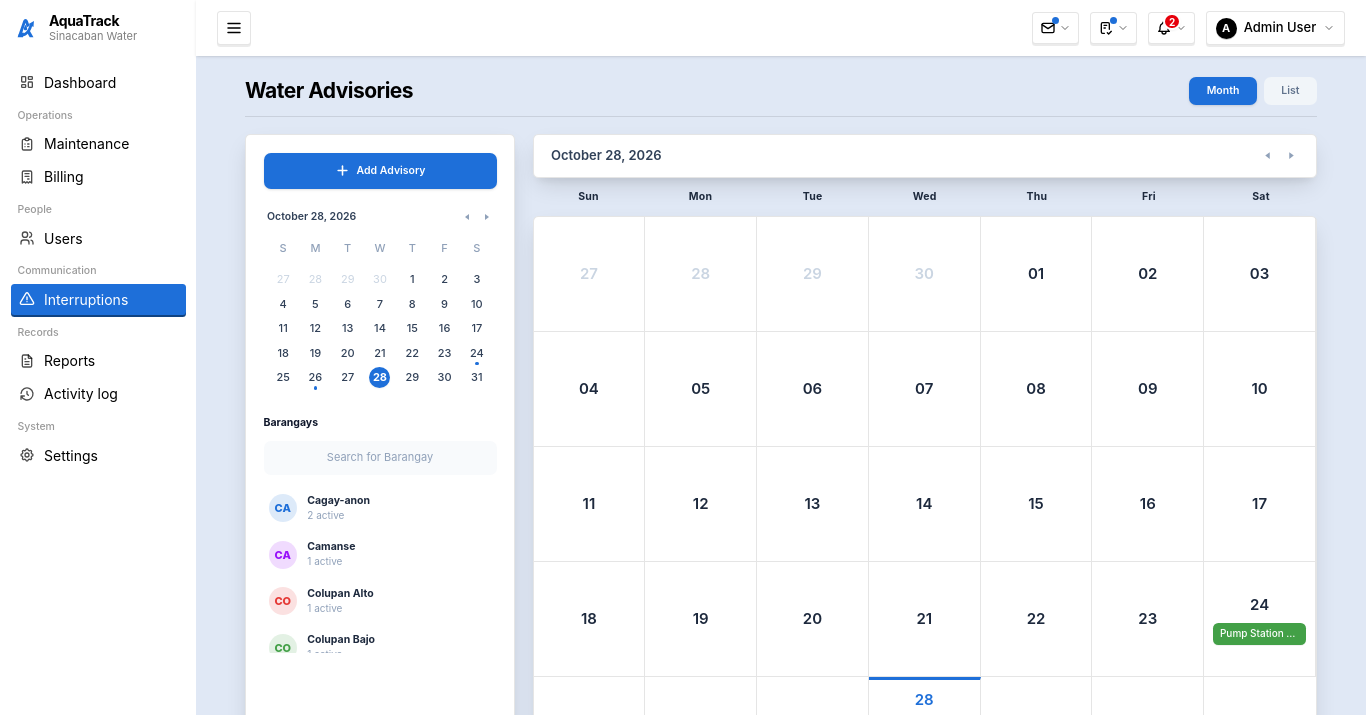
Scenario: AquaTrack Water Advisories Workflow (Slice: Advisories) › rejects a past start time when submitting advisory
Click the button "Add Advisory".
click(380, 170)  # box [264,152,496,188]
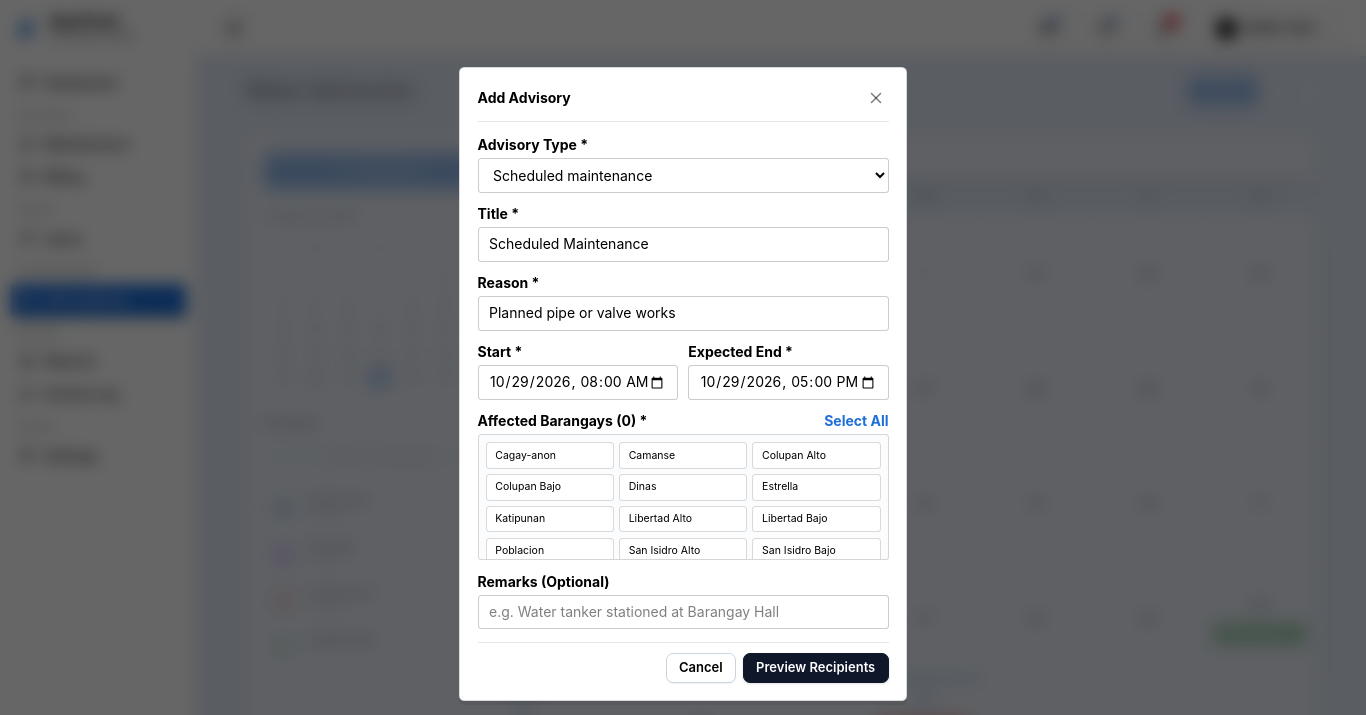
Note: Set starts_at to a past date
Replace the text in the field showing "T" below "Start *" with "2020-01-01T08:00" at coordinates (578, 383), box [478,365,678,400]
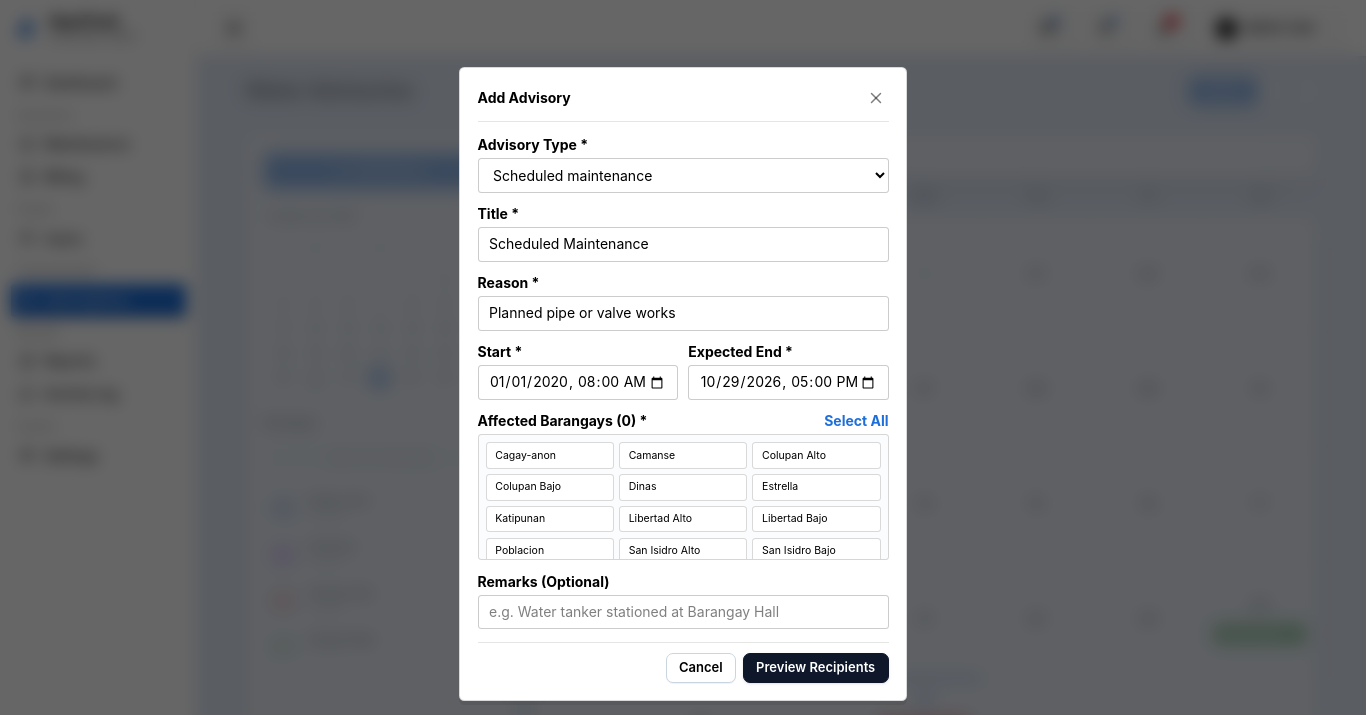
Note: Select all barangays
Click the button "Select All".
click(856, 421)  # box [824,412,888,431]
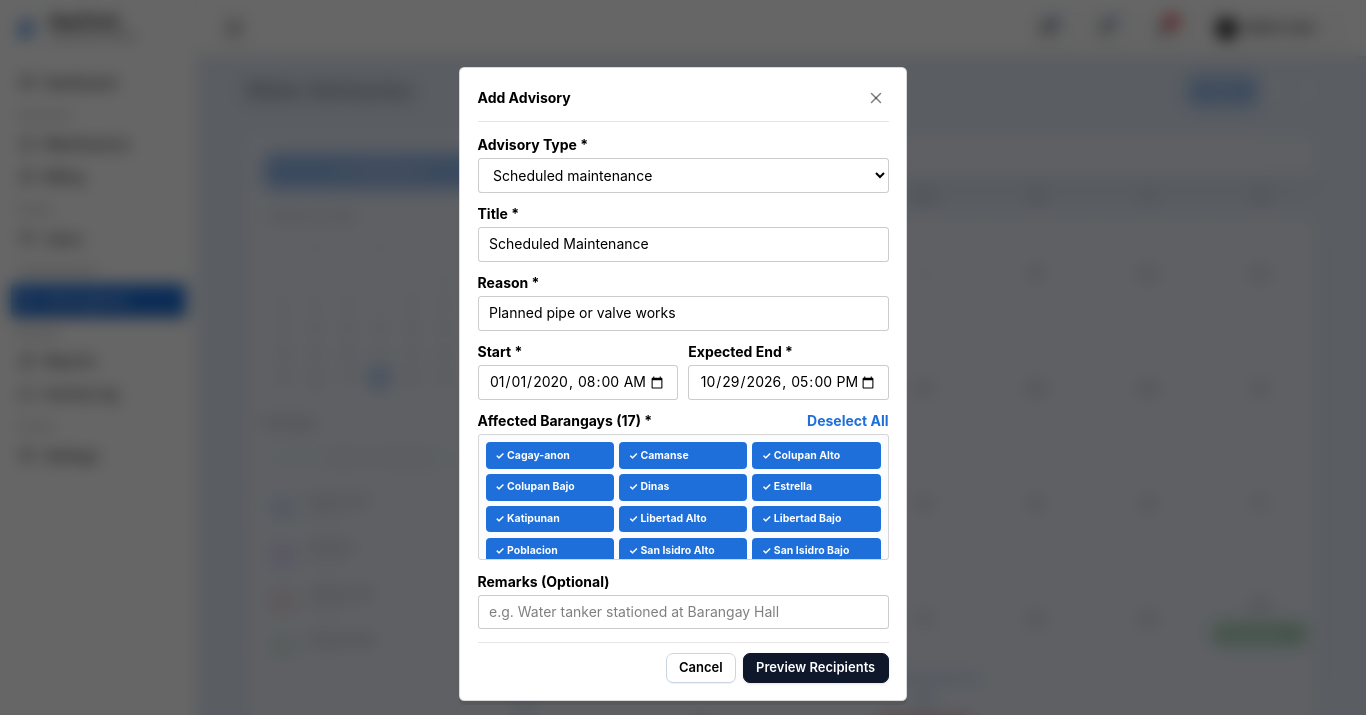
Click the button "Preview Recipients".
click(816, 668)  # box [743,653,888,683]
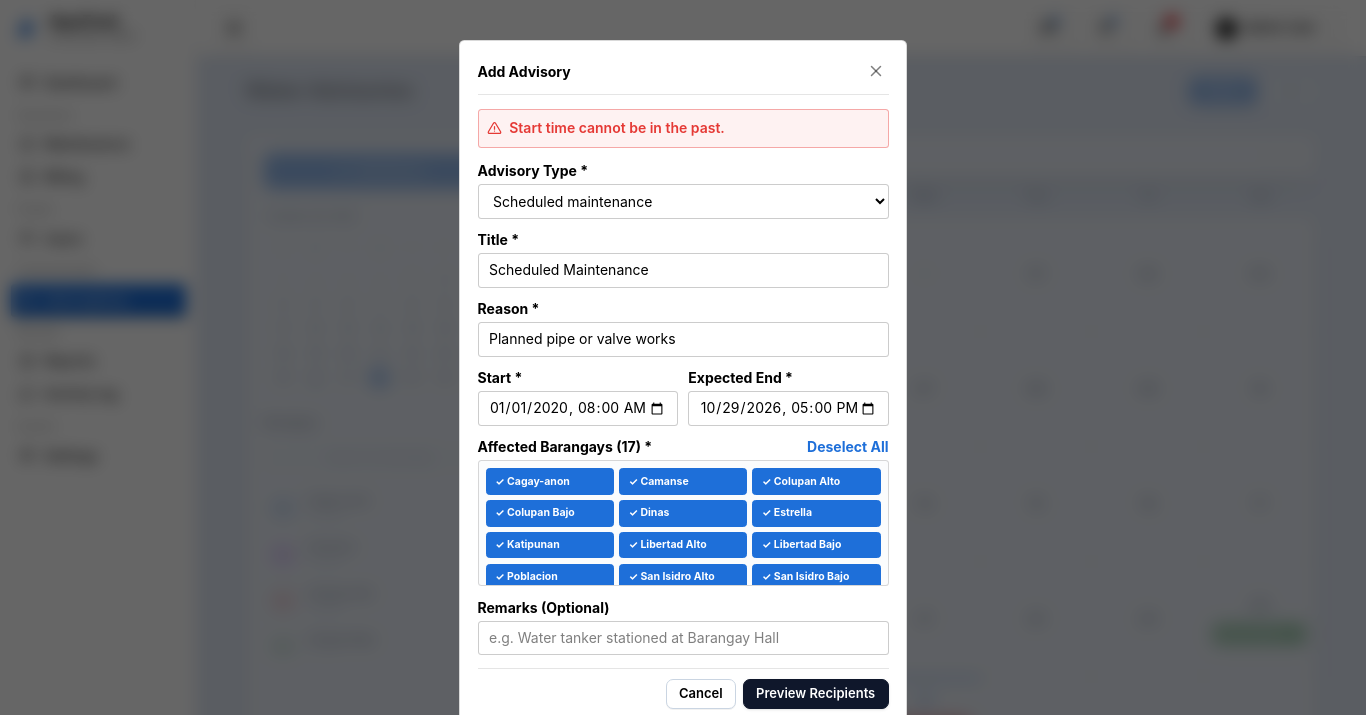
Now the text "Start time cannot be in the past." is shown, box [509,119,725,138]
